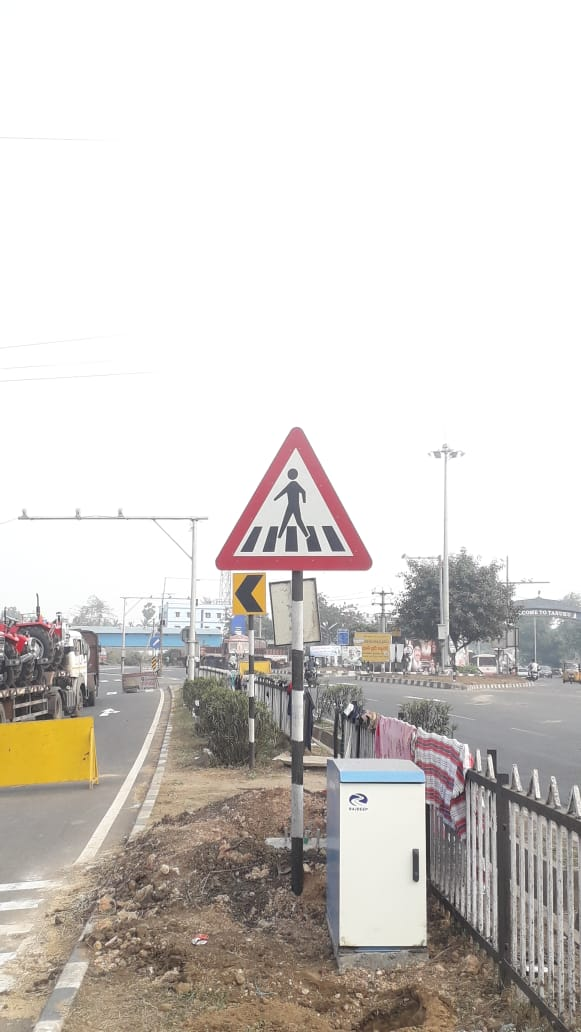pedestrian crossing: (204, 419, 382, 579)
